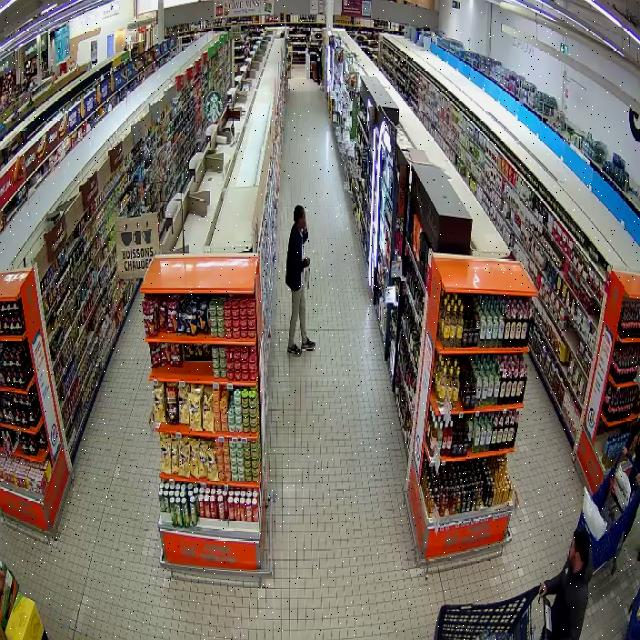article: (304, 265, 310, 290)
hands: (539, 583, 547, 596), (622, 447, 628, 456), (304, 257, 309, 267), (635, 474, 639, 486)
person: (539, 529, 592, 639), (285, 204, 315, 354)
